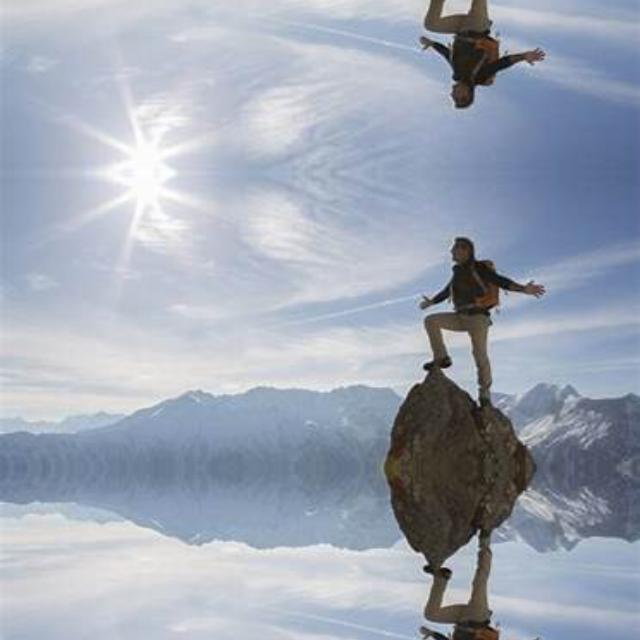person: (421, 229, 525, 409), (421, 0, 525, 115), (421, 527, 525, 640)
